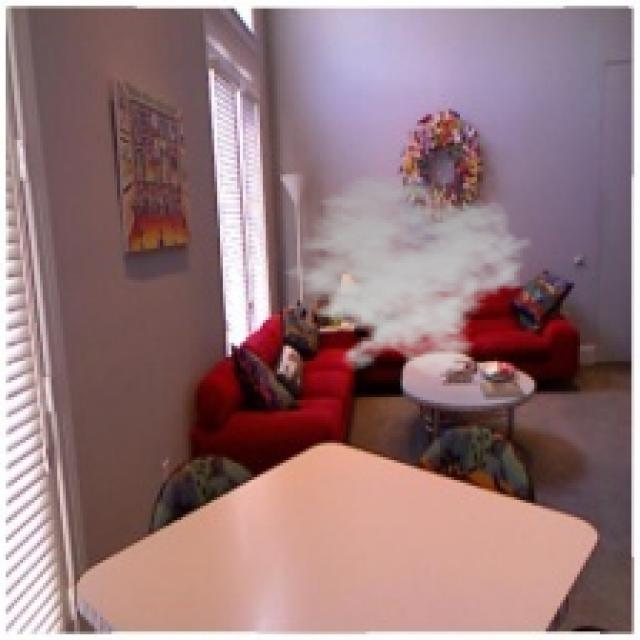smoke: (269, 171, 534, 380)
